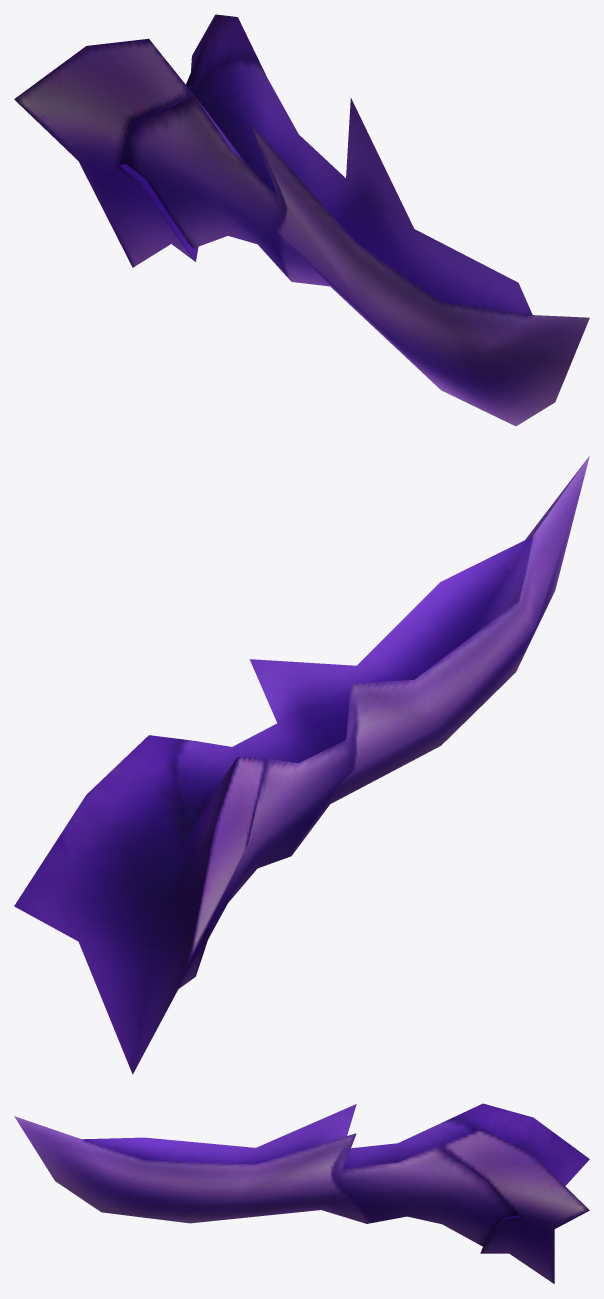
The picture shows the model from 3 angles, top to bottom: view 1: azimuth 30°, elevation 25°; view 2: azimuth 150°, elevation 25°; view 3: azimuth 270°, elevation 25°; orthographic projection. The views are drawn at different scales.
Parts seen in each view (by area): view 1: mSaya; view 2: mSaya; view 3: mSaya.
Boxes of the visible parts, x1,y1,x2,y2 form: mSaya: [14, 14, 589, 426]; mSaya: [14, 455, 589, 1074]; mSaya: [14, 1103, 589, 1283].
Bounding box in the file's own units: 0.1427 × 0.2184 × 0.6764.
